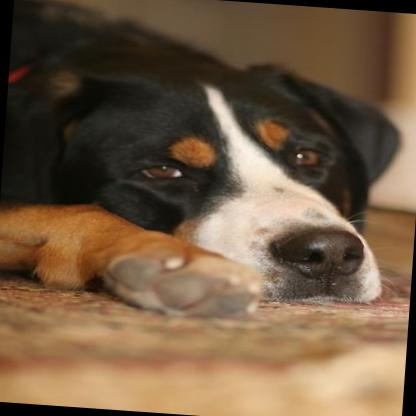Greater_Swiss_Mountain_dog: (0, 0, 410, 334)
